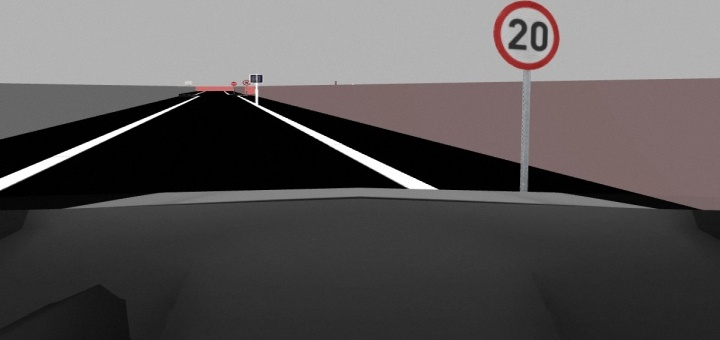hiz_20: (490, 1, 565, 71)
